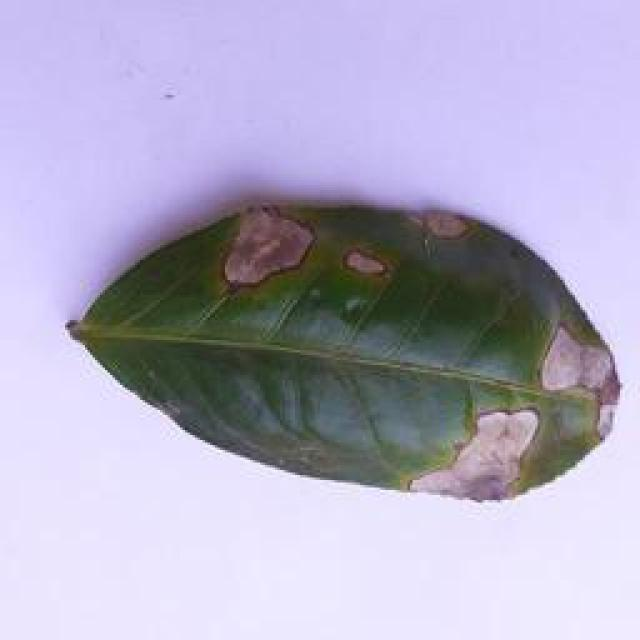Gray Blight: (62, 194, 621, 509)
